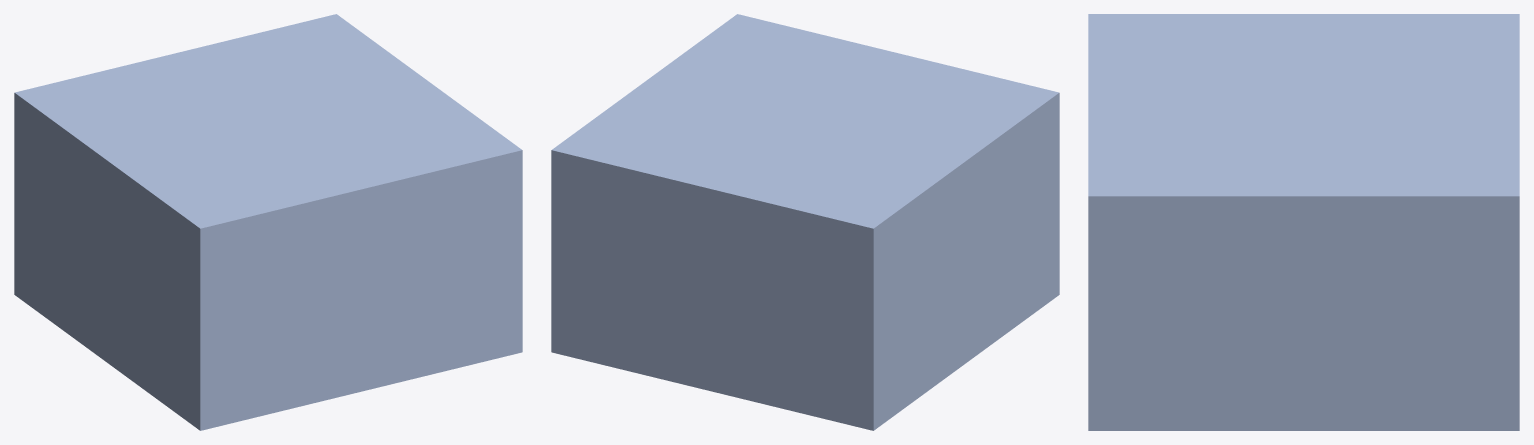
File: Ceiling003.fbx
3 renders of one model, left to right at view 1: azimuth 30°, elevation 25°; view 2: azimuth 150°, elevation 25°; view 3: azimuth 270°, elevation 25°, orthographic. The views are drawn at different scales.
Visible parts, largest first — view 1: Cube; view 2: Cube; view 3: Cube.
Part boxes in pixels (box(x1,y1,x2,y2)): Cube: box(14, 14, 522, 430); Cube: box(551, 14, 1059, 430); Cube: box(1088, 14, 1519, 430).
Bounding box in the file's own units: 100 × 60 × 100.
